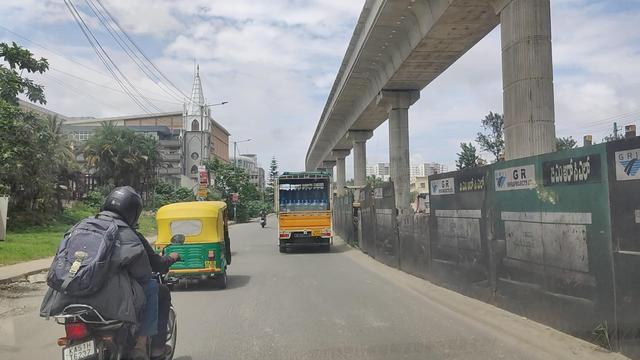HMV: (280, 165, 342, 256)
LMV: (33, 184, 155, 360), (139, 196, 229, 295)
